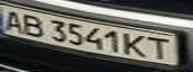1: (103, 28, 121, 54)
3: (42, 17, 69, 44)
4: (81, 25, 106, 51)
5: (63, 20, 87, 47)
A: (0, 7, 27, 33)
B: (18, 11, 48, 38)
K: (124, 30, 151, 57)
T: (145, 34, 175, 61)
